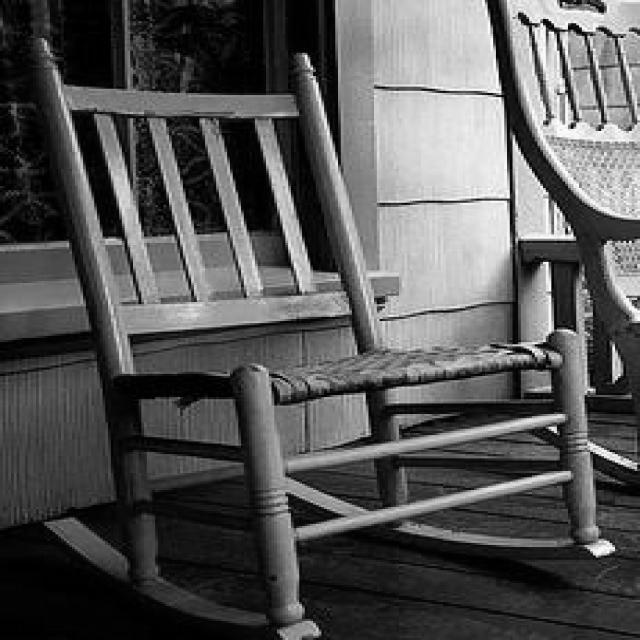chair: (25, 33, 615, 638)
